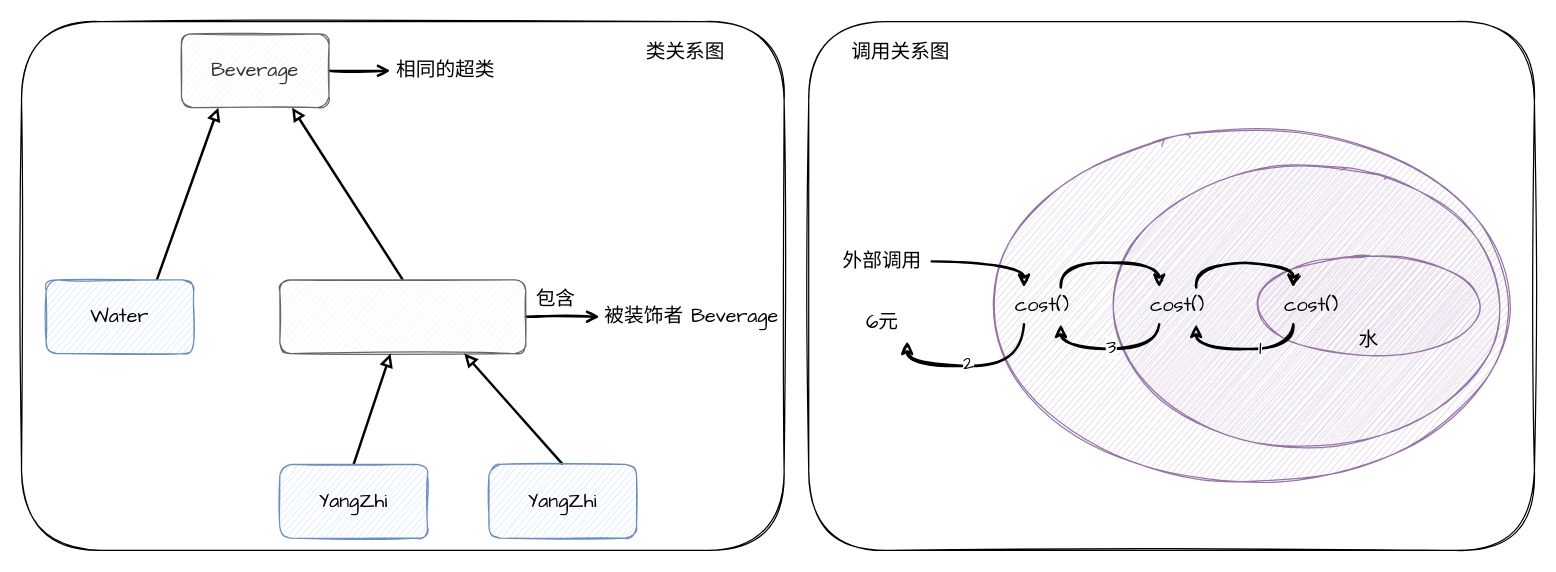
This 1556x572 diagram has some shape labels left out. The shapes that lost their labels are listed below. From the top down, each one's box as (x1, y1, x2, y2) in pixels, then its label:
(279, 279, 526, 354): CondimentDecorator
(980, 131, 1522, 480): 杨枝
(1103, 167, 1510, 444): 甘露
